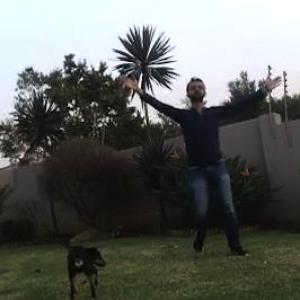takeoff: (131, 82, 266, 248)
